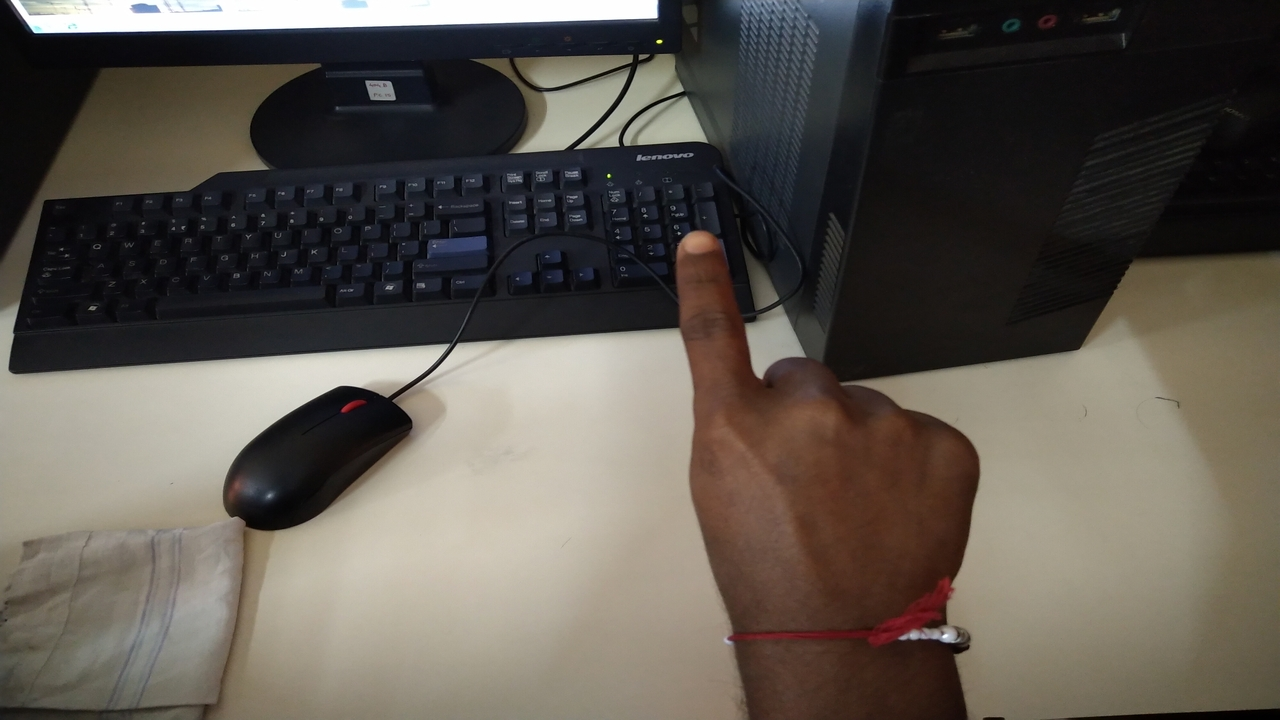fingertip: (672, 224, 726, 272)
